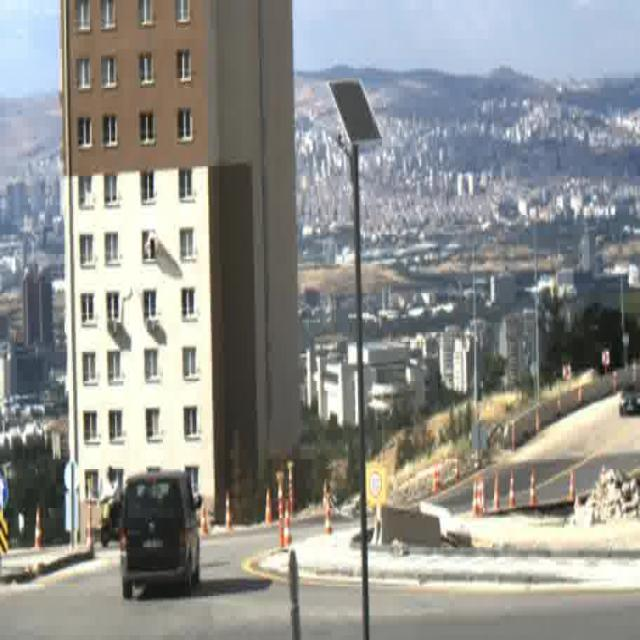Car: (122, 468, 200, 599), (617, 380, 640, 418)
Motorcycle: (97, 463, 123, 546)
